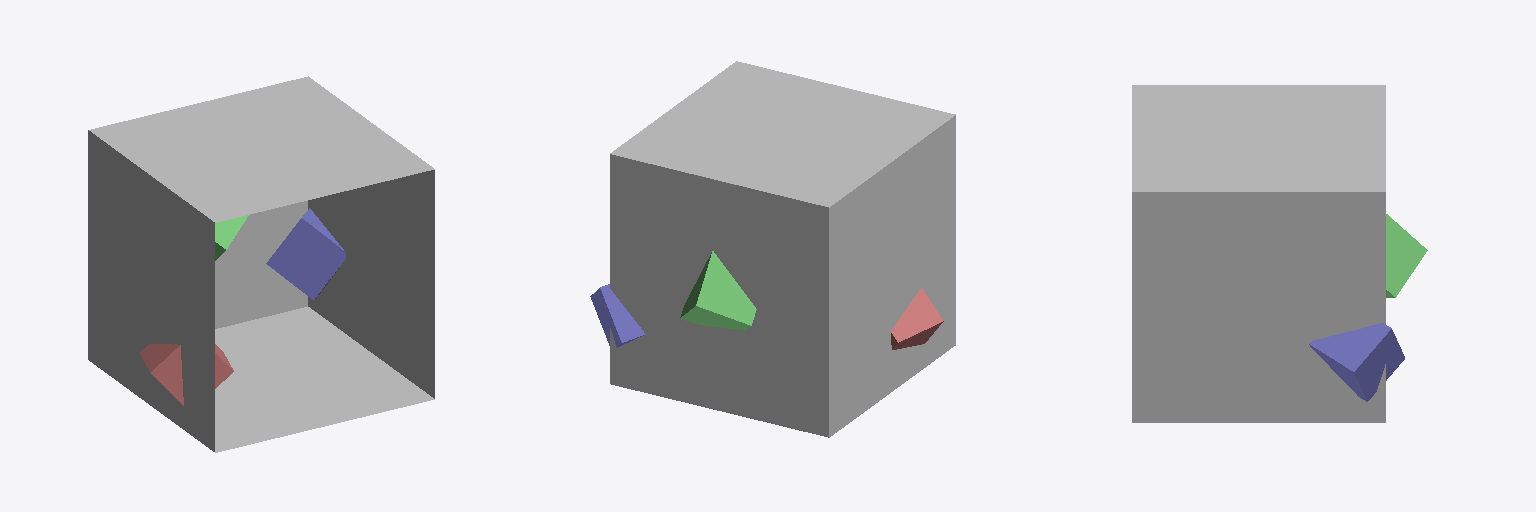
File: Box_Anisotropic.obj
The picture shows the model from 3 angles: view 1: azimuth 30°, elevation 25°; view 2: azimuth 150°, elevation 25°; view 3: azimuth 270°, elevation 25°; orthographic projection.
Visible parts, largest first — view 1: Cube.001, Cube.003, Cube.002, Cube; view 2: Cube.001, Cube, Cube.002, Cube.003; view 3: Cube.001, Cube.003, Cube.
Boxes of the visible parts, <box> form: Cube.001: <box>88,76,434,452</box>; Cube.003: <box>266,208,345,299</box>; Cube.002: <box>140,344,233,405</box>; Cube: <box>215,215,248,260</box>; Cube.001: <box>610,61,955,437</box>; Cube: <box>680,251,756,330</box>; Cube.002: <box>891,287,943,349</box>; Cube.003: <box>590,284,645,347</box>; Cube.001: <box>1132,85,1385,422</box>; Cube.003: <box>1309,323,1404,401</box>; Cube: <box>1386,214,1427,297</box>.
Size of the model in its own units: 5.12 by 4 by 4.66.